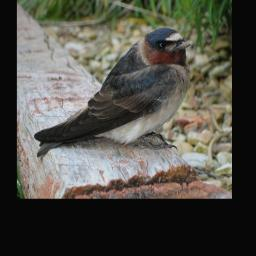Swallow: (31, 25, 196, 160)
